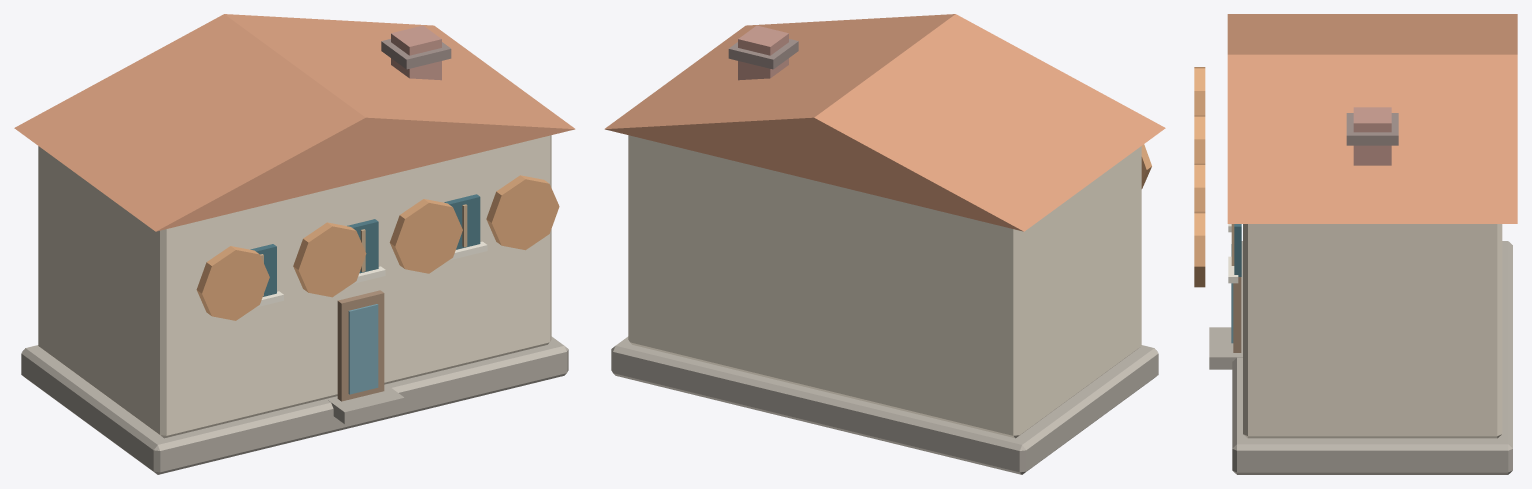
File: old_net_loft_near-DcmmtTqz.glb
3 views of the same model, side by side, from view 1: azimuth 30°, elevation 25°; view 2: azimuth 150°, elevation 25°; view 3: azimuth 270°, elevation 25° (orthographic). The views are drawn at different scales.
Visible parts, largest first — view 1: old_net_loft_near; view 2: old_net_loft_near; view 3: old_net_loft_near.
Boxes of the visible parts, <box> form: old_net_loft_near: <box>14,14,575,474</box>; old_net_loft_near: <box>604,14,1165,474</box>; old_net_loft_near: <box>1194,14,1517,474</box>.
Bounding box in the file's own units: 8.05 × 5.7 × 5.24.
